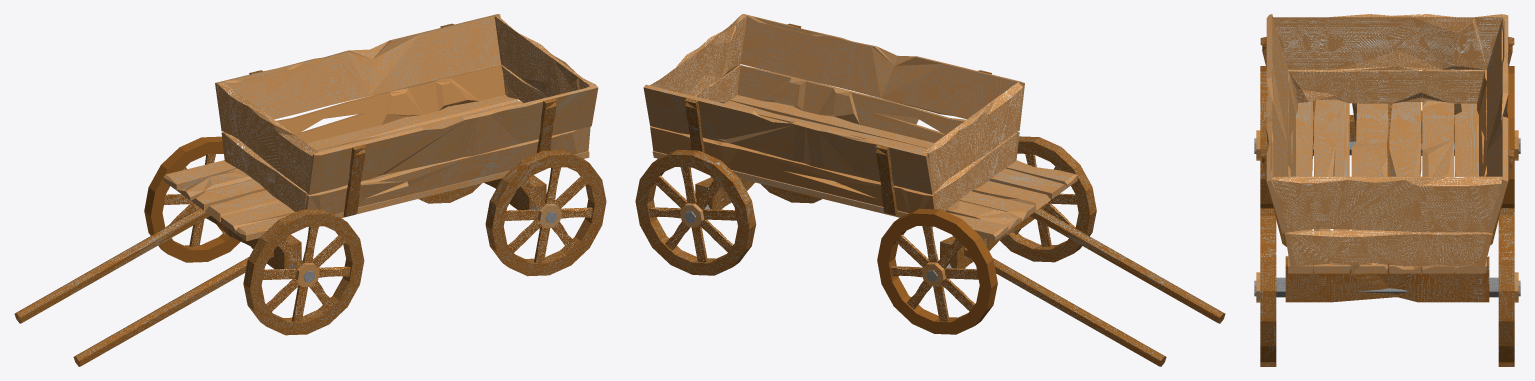
The model's file is Cart2.fbx.
3 views of the same model, side by side, from view 1: azimuth 30°, elevation 25°; view 2: azimuth 150°, elevation 25°; view 3: azimuth 270°, elevation 25° (orthographic). The views are drawn at different scales.
Visible parts, largest first — view 1: Group33, Group35, Group47, Group34, Group3, Group15, Group30, Group43, Group31, Group25, Group18, Group6 (+15 smaller); view 2: Group35, Group33, Group34, Group47, Group9, Group43, Group30, Group15, Group31, Group46, Group12, Group37 (+15 smaller); view 3: Group31, Group30, Group32, Group29, Group19, Group33, Group35, Group24, Group26, Group28, Group3, Group9 (+12 smaller).
Boxes of the visible parts, x1,y1,x2,y2 form: Group33: [215, 14, 500, 131]; Group35: [306, 85, 598, 194]; Group47: [221, 64, 505, 162]; Group34: [305, 126, 590, 214]; Group3: [485, 150, 606, 276]; Group15: [243, 209, 364, 335]; Group30: [217, 82, 318, 191]; Group43: [144, 136, 240, 262]; Group31: [494, 16, 595, 97]; Group25: [163, 95, 518, 190]; Group18: [262, 226, 350, 321]; Group6: [505, 167, 592, 262]; Group35: [740, 14, 1024, 131]; Group33: [643, 84, 934, 194]; Group34: [737, 65, 1019, 161]; Group47: [650, 126, 936, 213]; Group9: [635, 149, 756, 275]; Group43: [877, 208, 997, 334]; Group30: [923, 82, 1023, 191]; Group15: [1000, 136, 1096, 262]; Group31: [650, 14, 746, 96]; Group46: [890, 226, 978, 321]; Group12: [649, 167, 736, 262]; Group37: [1030, 208, 1225, 323]; Group31: [1272, 176, 1502, 232]; Group30: [1272, 14, 1502, 70]; Group32: [1288, 230, 1486, 266]; Group29: [1288, 69, 1484, 103]; Group19: [1285, 256, 1489, 302]; Group33: [1487, 14, 1508, 233]; Group35: [1266, 14, 1287, 233]; Group24: [1314, 99, 1349, 273]; Group26: [1351, 103, 1388, 273]; Group28: [1422, 69, 1454, 273]; Group3: [1260, 208, 1276, 366]; Group9: [1498, 208, 1514, 366].
Bounding box in the file's own units: 1773 × 583 × 670.
